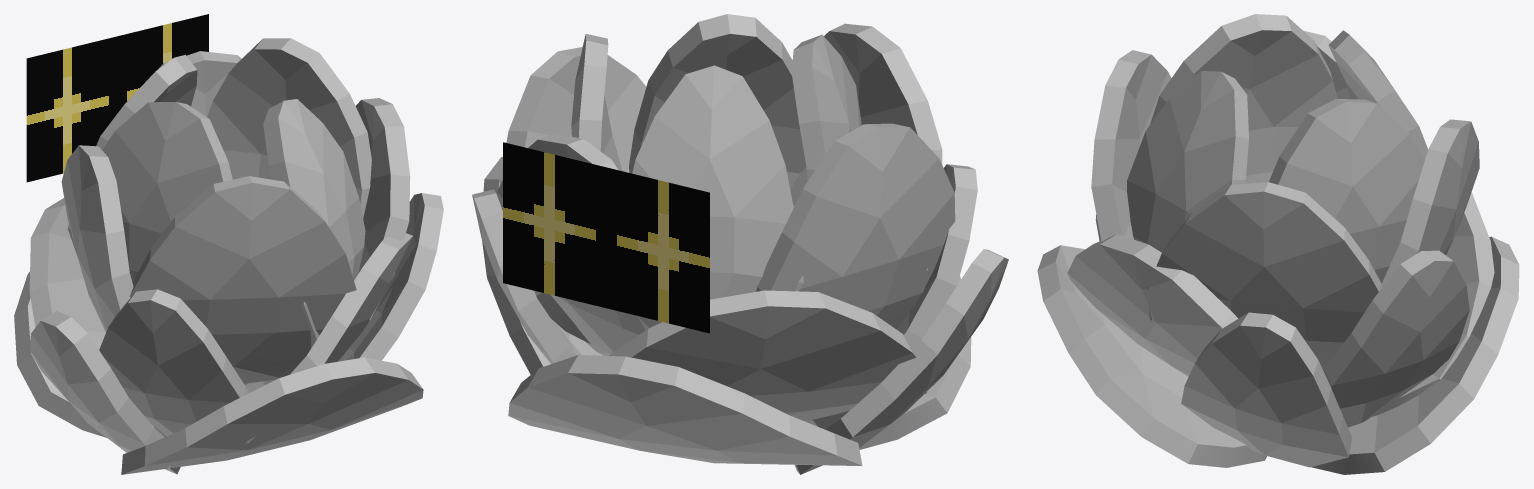
The model's file is lettuce.fbx.
3 renders of one model, left to right at view 1: azimuth 30°, elevation 25°; view 2: azimuth 150°, elevation 25°; view 3: azimuth 270°, elevation 25°, orthographic. The views are drawn at different scales.
Visible parts, largest first — view 1: polySurface8, polySurface6, eyes, polySurface2, polySurface11, polySurface12, polySurface14, polySurface16, polySurface7, polySurface15, polySurface4, polySurface10 (+4 smaller); view 2: eyes, polySurface16, polySurface9, polySurface4, polySurface13, polySurface14, polySurface7, polySurface15, polySurface8, polySurface12, polySurface2, polySurface5 (+4 smaller); view 3: polySurface15, polySurface10, polySurface11, polySurface6, polySurface5, polySurface14, polySurface12, polySurface3, polySurface9, polySurface8, polySurface1, polySurface4 (+2 smaller).
Boxes of the visible parts, <box> form: polySurface8: <box>130,176,356,383</box>; polySurface6: <box>121,357,423,474</box>; eyes: <box>26,14,208,182</box>; polySurface2: <box>99,289,249,436</box>; polySurface11: <box>207,38,371,218</box>; polySurface12: <box>102,102,232,282</box>; polySurface14: <box>263,99,365,348</box>; polySurface16: <box>61,145,133,332</box>; polySurface7: <box>29,311,180,474</box>; polySurface15: <box>355,98,410,321</box>; polySurface4: <box>29,198,166,437</box>; polySurface10: <box>338,193,443,361</box>; eyes: <box>503,142,709,333</box>; polySurface16: <box>756,123,955,329</box>; polySurface9: <box>508,355,862,465</box>; polySurface4: <box>609,290,927,422</box>; polySurface13: <box>632,65,803,329</box>; polySurface14: <box>629,14,806,189</box>; polySurface7: <box>794,249,1008,474</box>; polySurface15: <box>499,47,646,343</box>; polySurface8: <box>790,23,942,272</box>; polySurface12: <box>791,34,861,181</box>; polySurface2: <box>807,164,977,429</box>; polySurface5: <box>472,189,602,363</box>; polySurface15: <box>1147,182,1381,369</box>; polySurface10: <box>1181,312,1352,467</box>; polySurface11: <box>1269,99,1424,283</box>; polySurface6: <box>1037,245,1266,467</box>; polySurface5: <box>1323,250,1469,427</box>; polySurface14: <box>1127,71,1248,252</box>; polySurface12: <box>1150,14,1337,183</box>; polySurface3: <box>1067,234,1238,376</box>; polySurface9: <box>1311,236,1519,474</box>; polySurface8: <box>1091,50,1171,241</box>; polySurface1: <box>1381,119,1479,287</box>; polySurface4: <box>1372,192,1494,416</box>.
Bounding box in the file's own units: 2.87 × 2.42 × 2.7.
